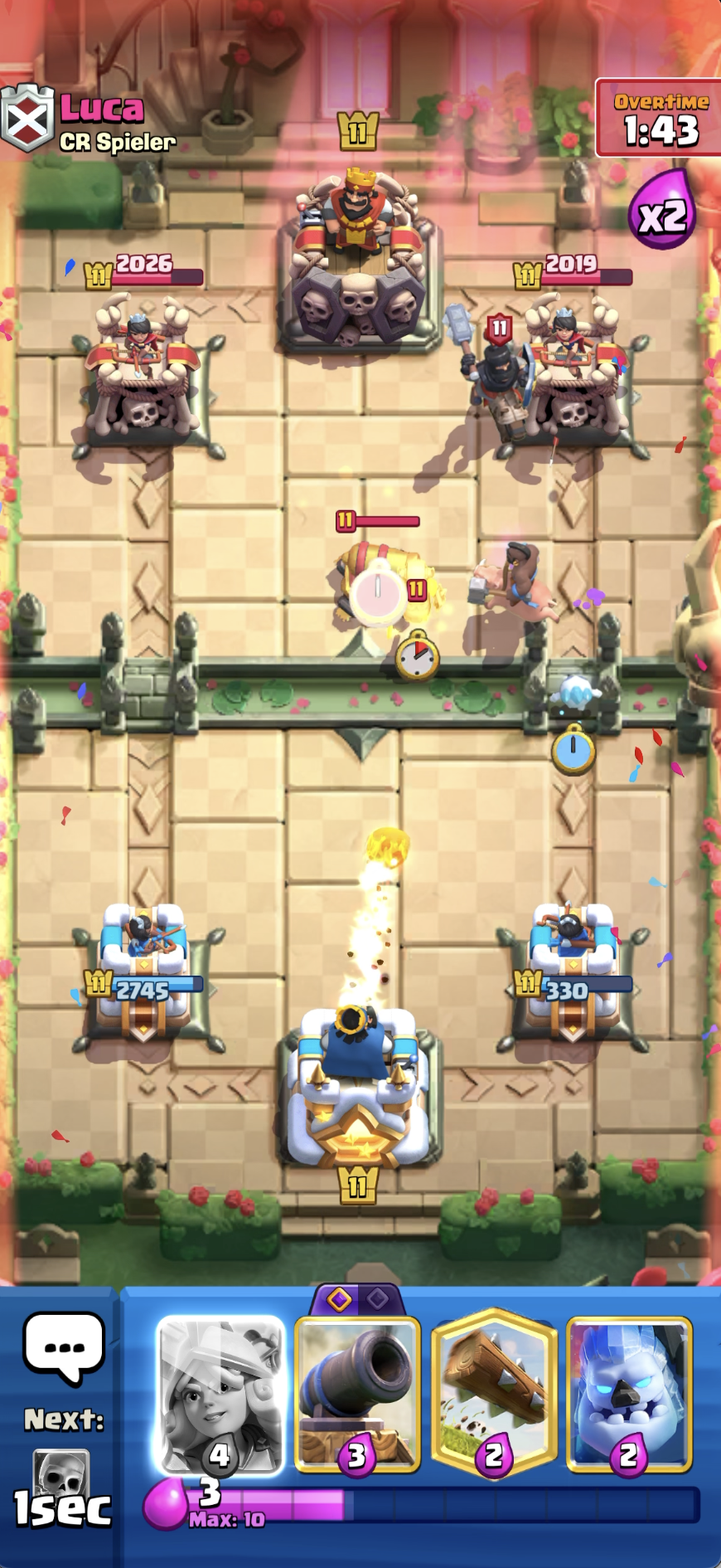fireball: (332, 793, 438, 919)
hog-rider: (459, 524, 565, 634)
ice-spirit: (553, 663, 609, 723)
